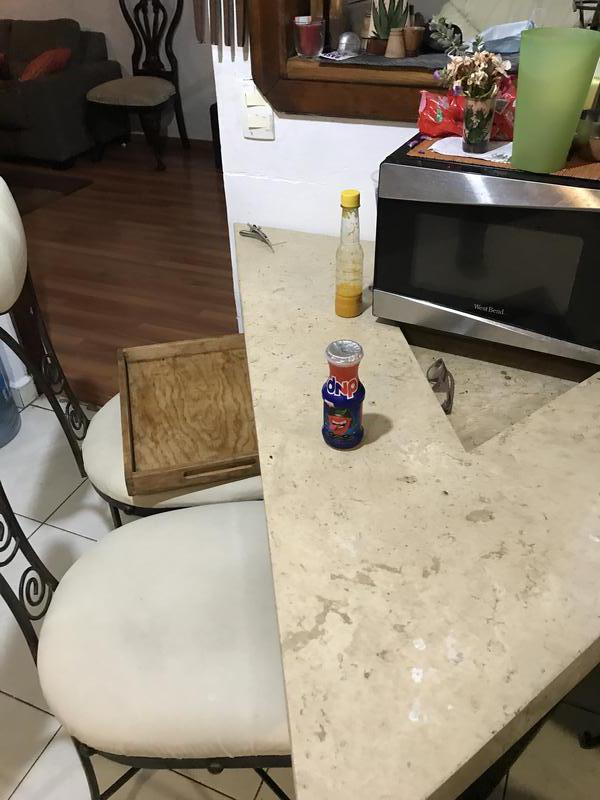danup: (322, 338, 365, 452)
